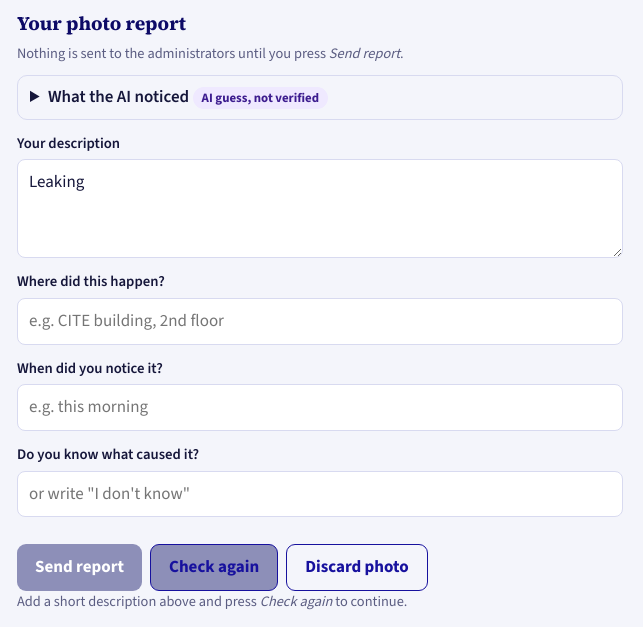
Test: PhotoReportCard › cannot be sent when the report is not plausible, and 'Check again' needs an edit
Expected: the button "Send report" is disabled, [17,544,142,590]
Expected: the button "Check again" is disabled, [150,544,278,590]
In the text box labelled "Your description": (320, 209) [17,159,623,258], type " more"
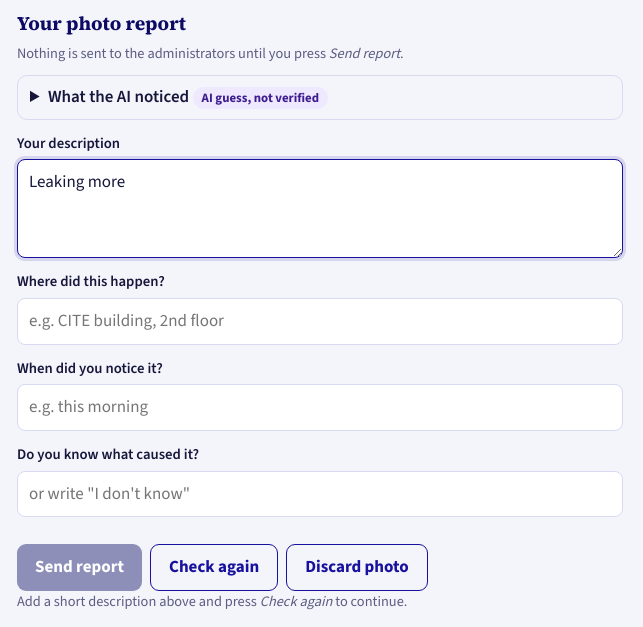
Expected: the button "Check again" is enabled, [150,544,278,590]
